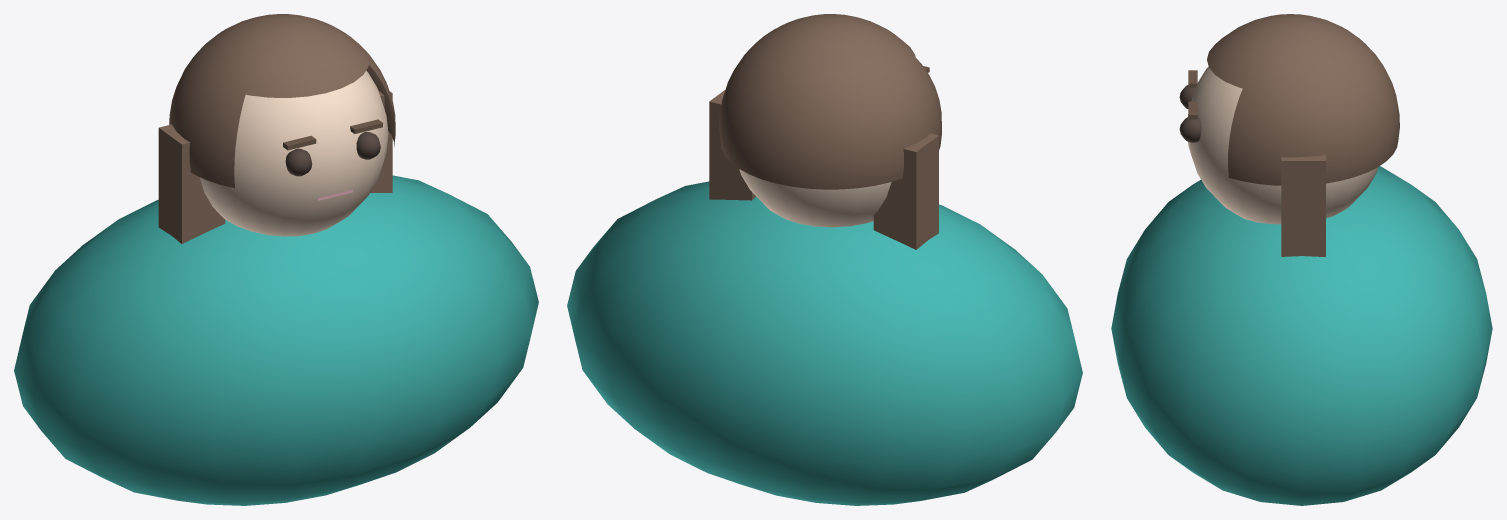
The model's file is lexis-tutor.glb.
3 views of the same model, side by side, from view 1: azimuth 30°, elevation 25°; view 2: azimuth 150°, elevation 25°; view 3: azimuth 270°, elevation 25° (orthographic). The views are drawn at different scales.
Visible parts, largest first — view 1: Body, Head, Hair, HairStrands, Eyes, Eyebrows; view 2: Body, Hair, HairStrands, Head; view 3: Body, Hair, Head, HairStrands, Eyes.
Boxes of the visible parts, x1,y1,x2,y2 form: Body: (14,175,538,505); Head: (199,70,388,236); Hair: (169,14,395,188); HairStrands: (158,90,392,243); Eyes: (285,132,380,176); Eyebrows: (283,119,382,150); Body: (567,181,1082,505); Hair: (719,14,941,189); HairStrands: (709,90,938,249); Head: (739,169,891,227); Body: (1111,166,1492,505); Hair: (1207,14,1399,185); Head: (1188,67,1378,224); HairStrands: (1281,155,1325,256); Eyes: (1179,85,1201,142).
Bounding box in the file's own units: 0.5832 × 0.5016 × 0.4104.
